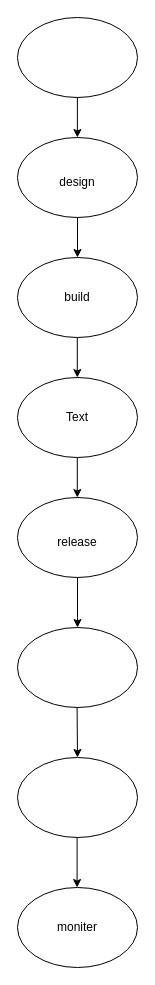
The diagram is 155 pixels wide and 985 high, and some of its shapes have lost their labels. The box of each missing label's shape, as (x1, y1, x2, y2) in pixels:
deploy: (16, 626, 138, 708)
operate: (16, 756, 138, 838)
plan: (16, 16, 138, 98)
